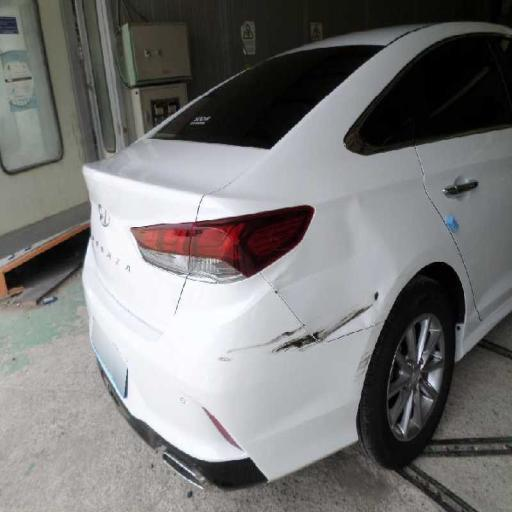broken: (218, 308, 384, 394)
